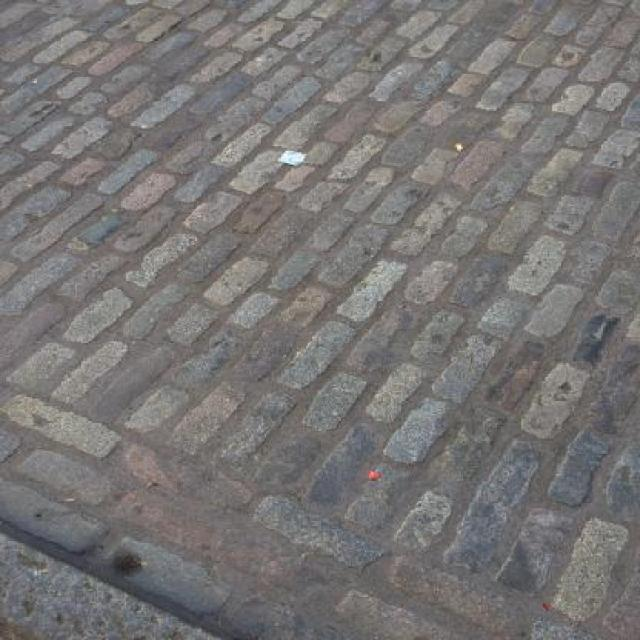plastic: (276, 150, 307, 167)
